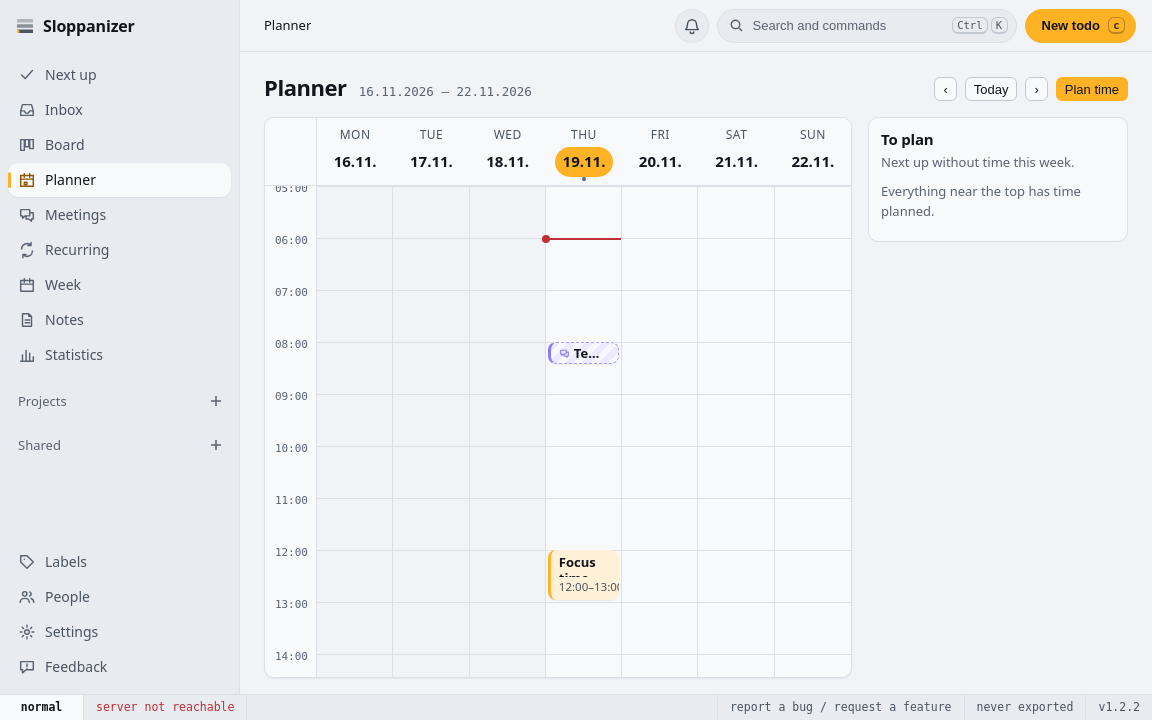
Test case: meetings in the planner › cancels one date from its dialog, with an Undo
Later steps or results of the test are not shown.
(page scrolled)
Step 1. Click the button titled "Team standup, " → (583, 353), box 548,342 -> 619,364
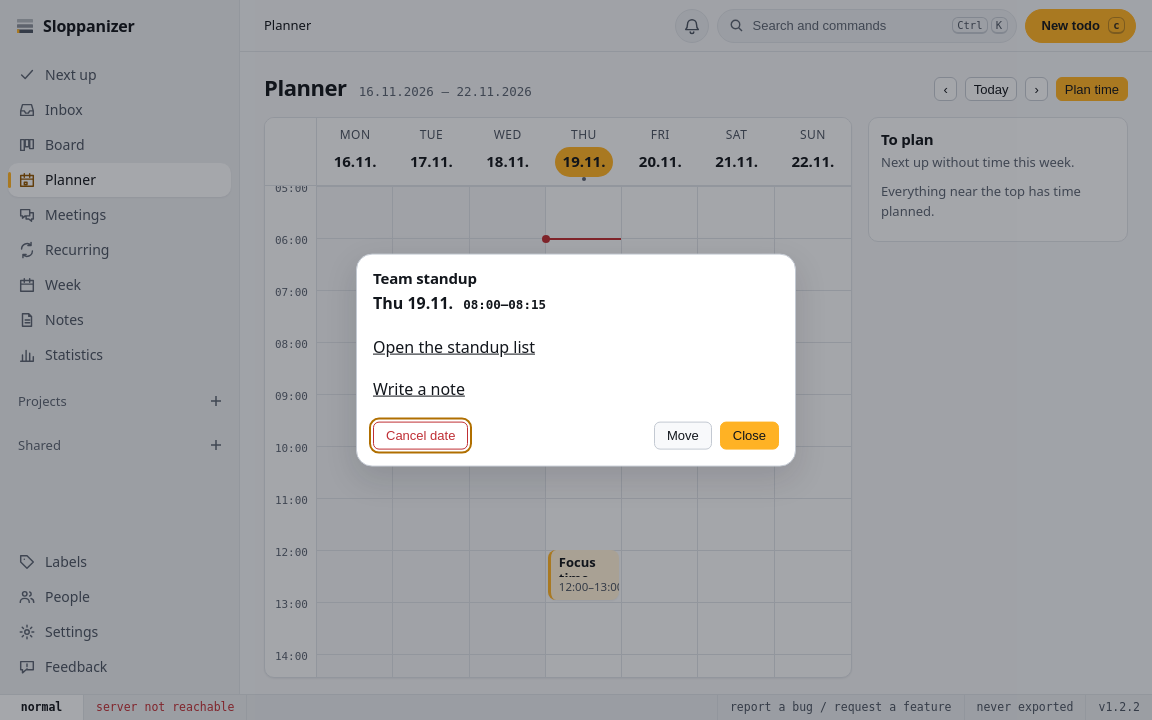
Step 2. Click the button "Cancel date" → (421, 435), box 373,421 -> 468,449
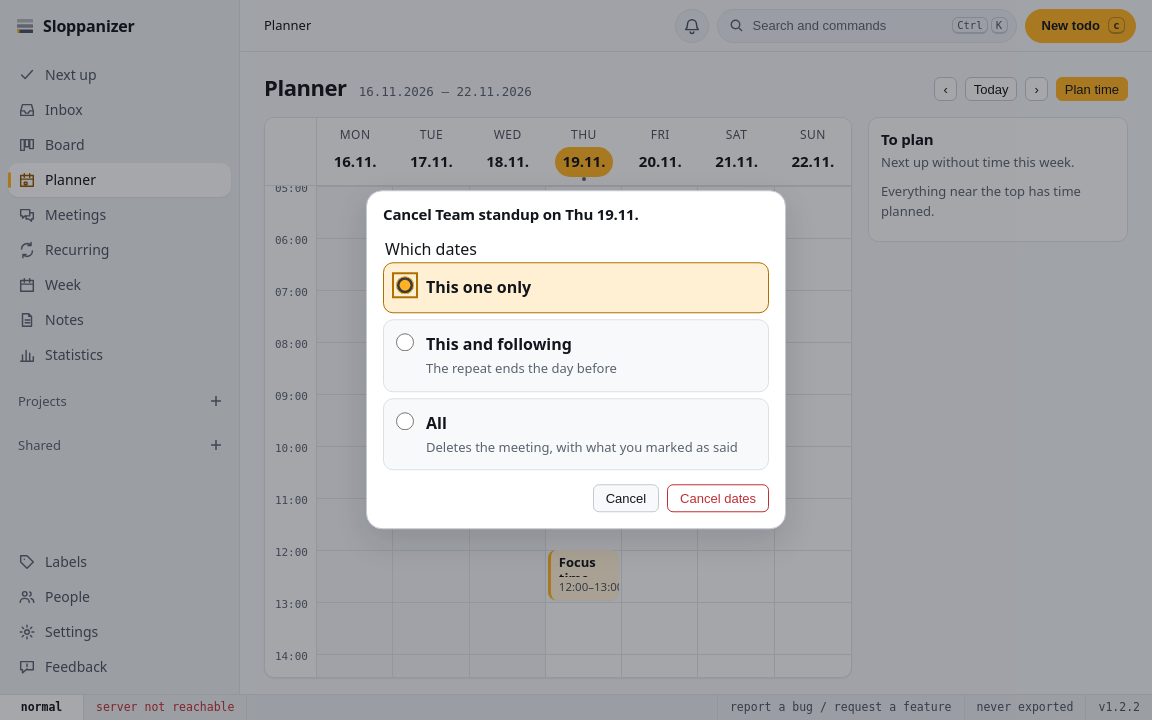
Expected: the label "All Deletes the meeting, with what you marked as said" is shown, 383,398 -> 769,471
